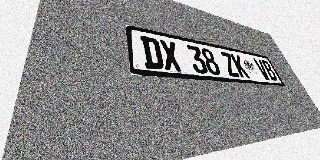3: (186, 45, 209, 74)
8: (200, 47, 222, 76)
B: (260, 60, 279, 81)
D: (140, 35, 165, 70)
K: (230, 53, 250, 78)
V: (253, 58, 272, 80)
X: (159, 39, 183, 72)
Z: (219, 51, 241, 77)
